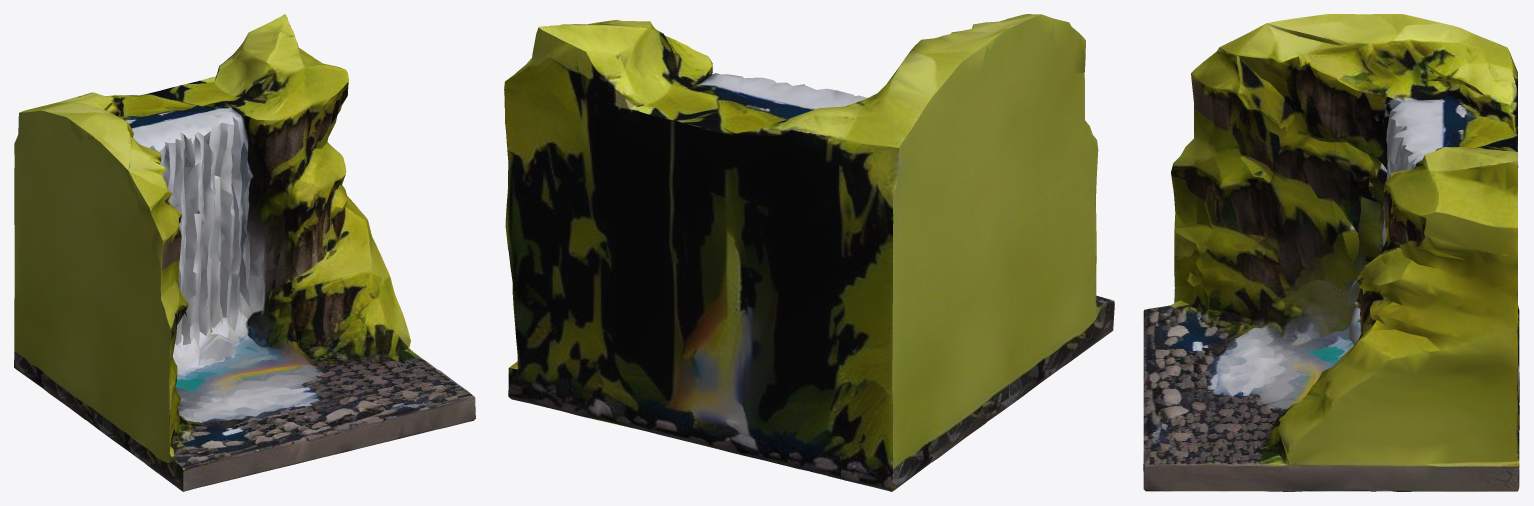
The model's file is skogafoss.glb.
3 renders of one model, left to right at view 1: azimuth 30°, elevation 25°; view 2: azimuth 150°, elevation 25°; view 3: azimuth 270°, elevation 25°, orthographic. The views are drawn at different scales.
Visible parts, largest first — view 1: logan-textured.obj; view 2: logan-textured.obj; view 3: logan-textured.obj.
Part boxes in pixels (left/top/right/bottom): logan-textured.obj: left=14, top=14, right=475, bottom=491; logan-textured.obj: left=504, top=14, right=1114, bottom=491; logan-textured.obj: left=1143, top=14, right=1519, bottom=491.
Bounding box in the file's own units: 1 × 0.9342 × 0.9924.
1 material, 1 textured.
